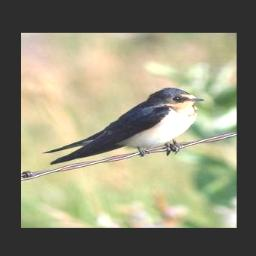Swallow: (43, 85, 206, 168)
